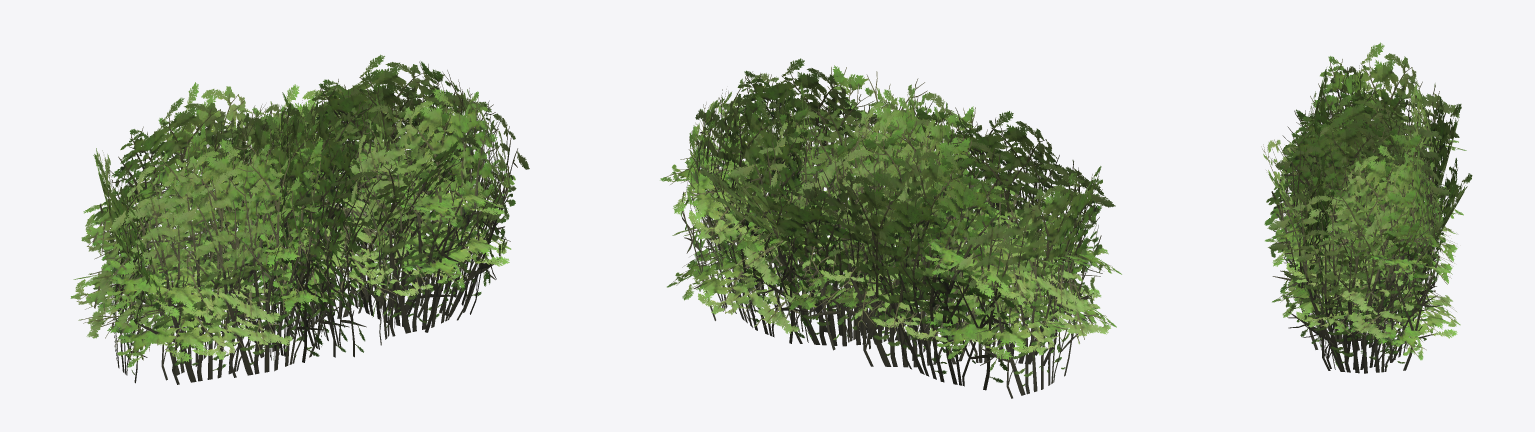
The model's file is Hedge-01.gltf.
The picture shows the model from 3 angles, left to right: view 1: azimuth 30°, elevation 25°; view 2: azimuth 150°, elevation 25°; view 3: azimuth 270°, elevation 25°; orthographic projection. The views are drawn at different scales.
Visible parts, largest first — view 1: Hedge-01; view 2: Hedge-01; view 3: Hedge-01.
Boxes of the visible parts, x1=… form: Hedge-01: x1=70, y1=54, x2=529, y2=384; Hedge-01: x1=660, y1=58, x2=1121, y2=398; Hedge-01: x1=1261, y1=42, x2=1472, y2=373.
Size of the model in its own units: 3.17 by 1.41 by 1.84.
Materials: 2 (2 with a texture image).
